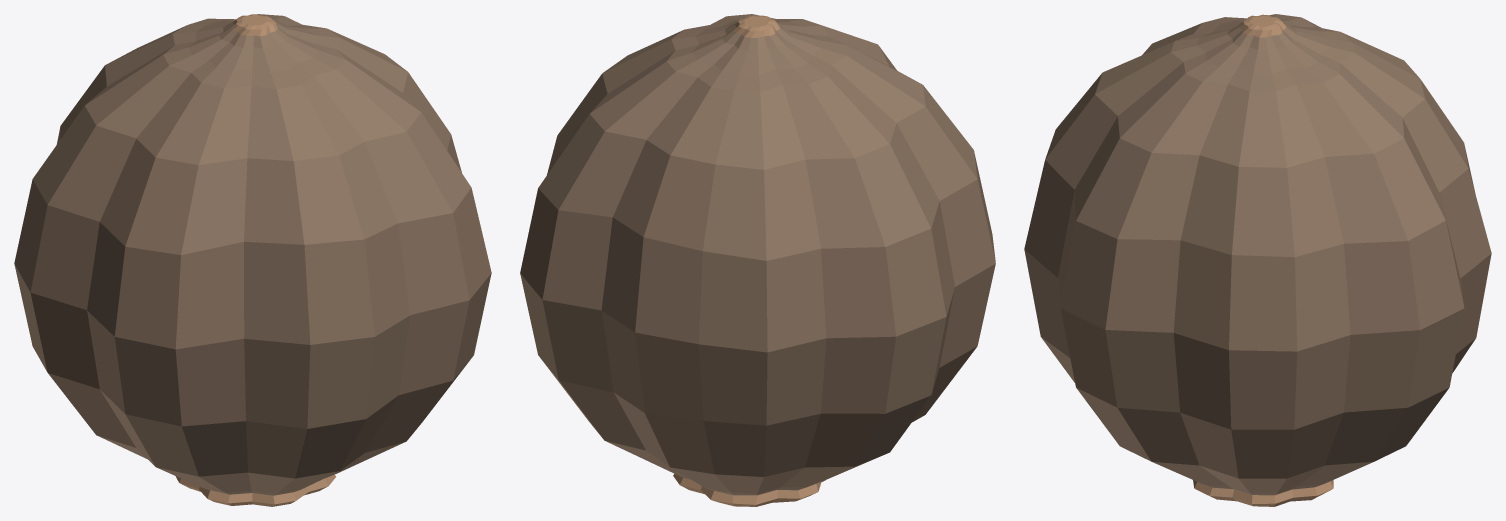
File: Onion.fbx
3 renders of one model, left to right at view 1: azimuth 30°, elevation 25°; view 2: azimuth 150°, elevation 25°; view 3: azimuth 270°, elevation 25°, orthographic.
Parts seen in each view (by area): view 1: Sphere; view 2: Sphere; view 3: Sphere.
Part boxes in pixels (x1,y1,x2,y2): Sphere: [14, 14, 491, 506]; Sphere: [520, 14, 995, 506]; Sphere: [1024, 14, 1491, 506].
Size of the model in its own units: 238 by 253 by 235.
